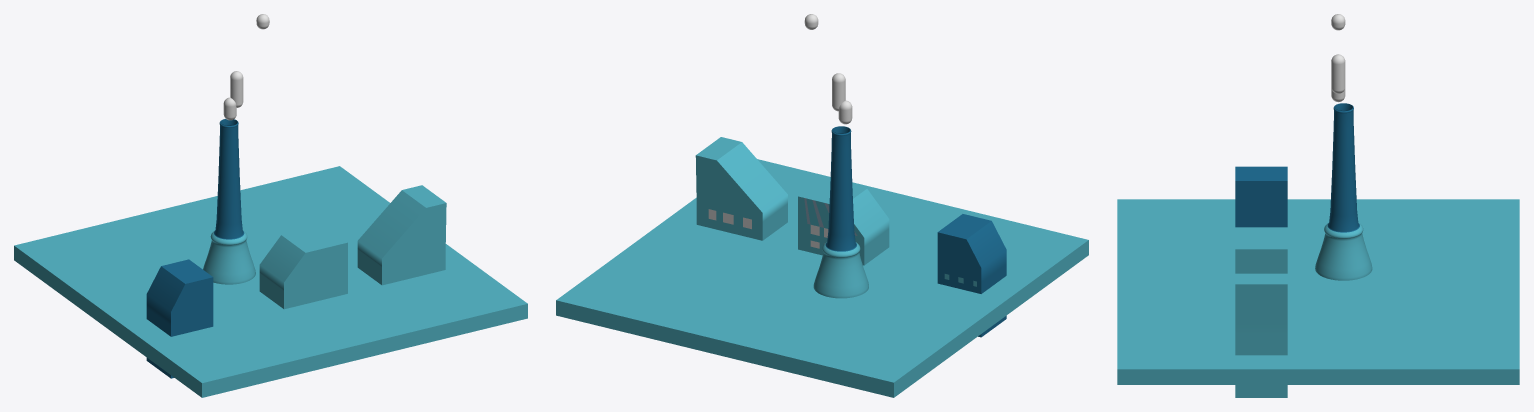
File: factory_building-4.gltf
The picture shows the model from 3 angles, left to right: view 1: azimuth 30°, elevation 25°; view 2: azimuth 150°, elevation 25°; view 3: azimuth 270°, elevation 25°; orthographic projection. The views are drawn at different scales.
Parts seen in each view (by area): view 1: pCube18, pCube6, pCube4, pCylinder9, pCube5; view 2: pCube18, pCube6, pCylinder9, pCube5, pCube4; view 3: pCube18, pCylinder9, pCube6, pCube5, pCube4, pSphere36.
Part boxes in pixels (box(x1,y1,x2,y2)): pCube18: box(14, 166, 527, 397); pCube6: box(357, 185, 446, 285); pCube4: box(259, 225, 347, 309); pCylinder9: box(203, 119, 255, 284); pCube5: box(146, 259, 213, 378); pCube18: box(556, 159, 1088, 397); pCube6: box(695, 137, 787, 240); pCylinder9: box(813, 126, 868, 298); pCube5: box(937, 214, 1006, 337); pCube4: box(798, 178, 889, 265); pCube18: box(1117, 199, 1519, 384); pCylinder9: box(1315, 103, 1372, 280); pCube6: box(1235, 273, 1287, 397); pCube5: box(1235, 166, 1287, 227); pCube4: box(1235, 227, 1287, 273); pSphere36: box(1331, 54, 1345, 93).
Bounding box in the file's own units: 1.47 × 1.27 × 1.47.
